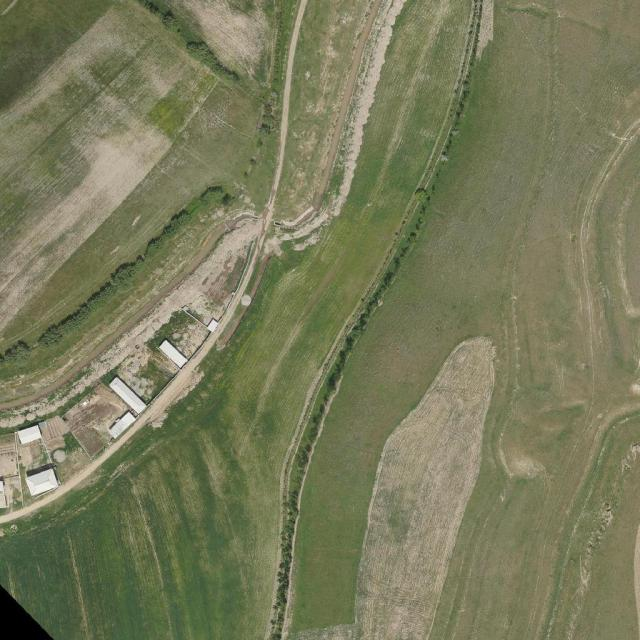agricultural_land: (288, 317, 559, 640), (247, 0, 381, 230), (257, 0, 368, 225), (370, 0, 447, 179)
building: (108, 376, 148, 416), (23, 464, 60, 497), (157, 339, 189, 368), (106, 410, 137, 439), (16, 425, 43, 445), (0, 479, 8, 508), (206, 318, 220, 332), (239, 294, 252, 309), (182, 305, 190, 314)
unmetalled_road: (0, 6, 387, 572)
